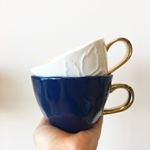cups: (28, 73, 137, 134), (30, 34, 136, 75)
